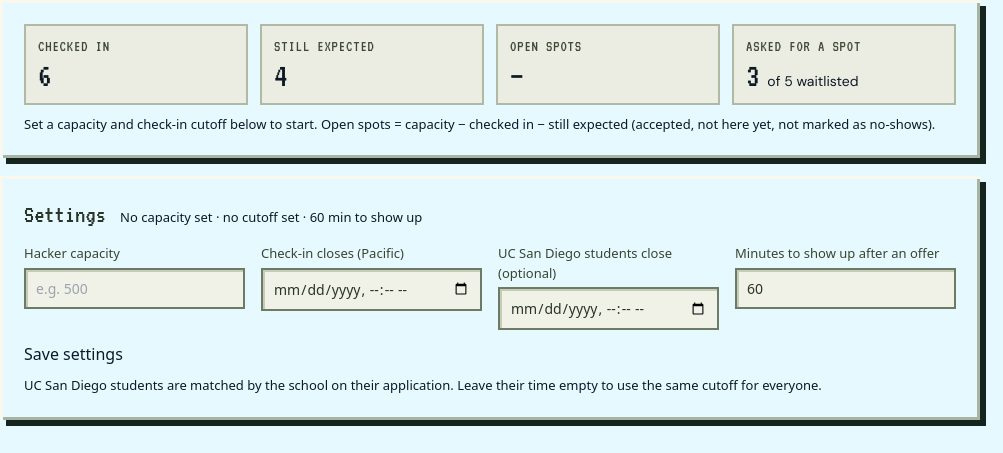
Test: Day-of page › asks for settings first when there are none
This screenshot has width=1003, height=453.
Expected: the text "Set a capacity and check-in cutoff" is shown, [24,115,318,133]
In the number field labelled "Hacker capacity": [134, 288] box [24,268,245,309], type "500"
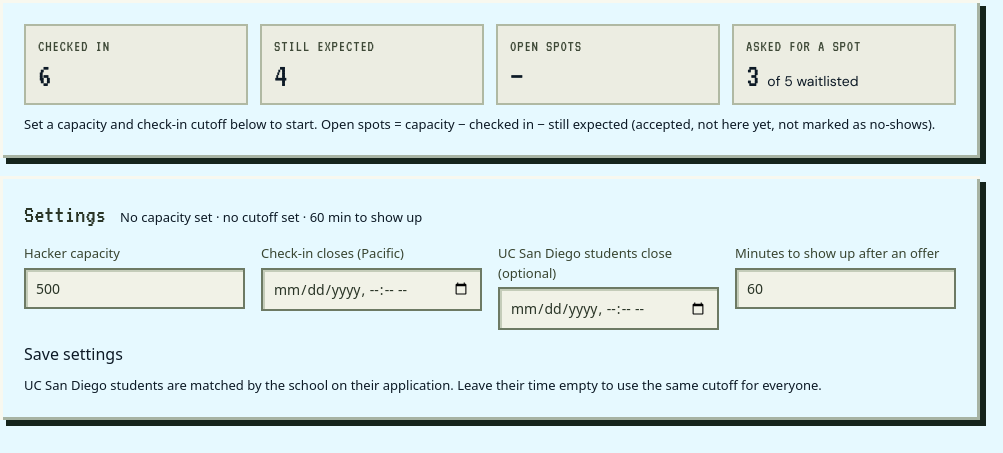
In the field labelled "Check-in closes (Pacific)": [372, 289] box [261,268,482,311], type "2027-01-16T12:00"
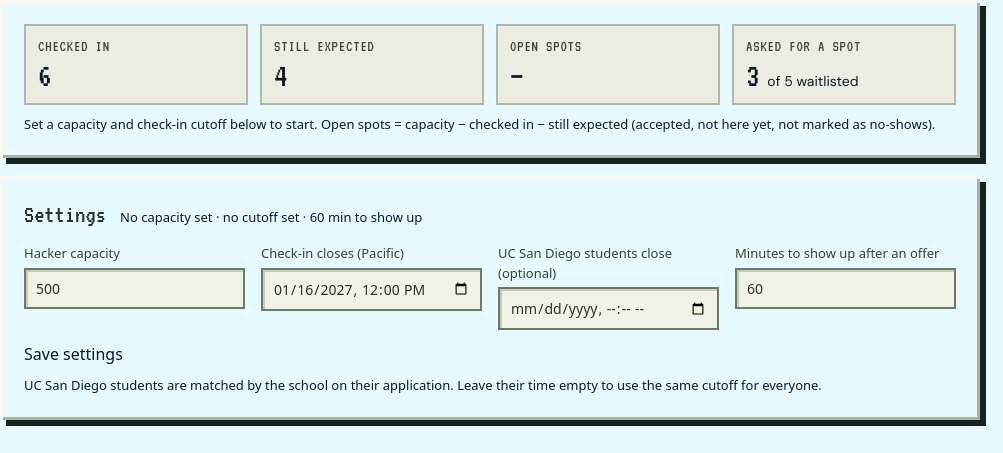
Click the button "Save settings": [73, 354] box [24,342,123,366]
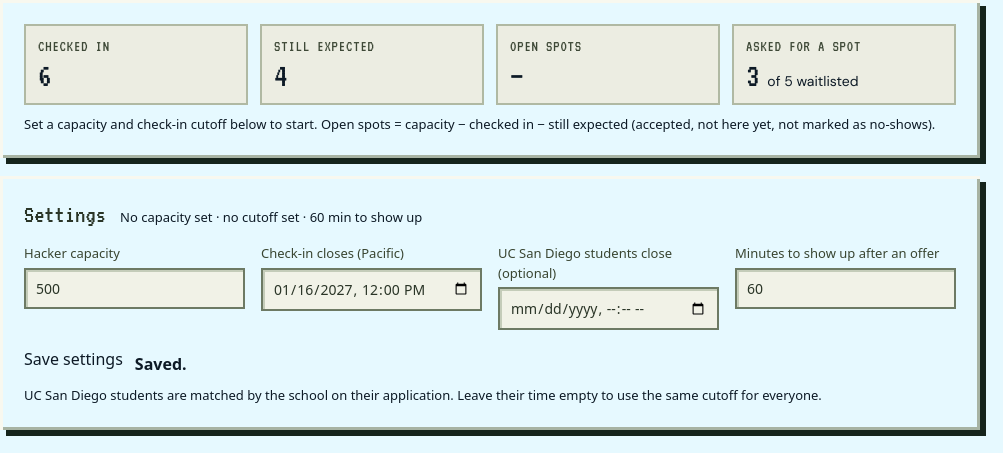
Expected: the text "Saved." is shown, [135,352,186,376]
